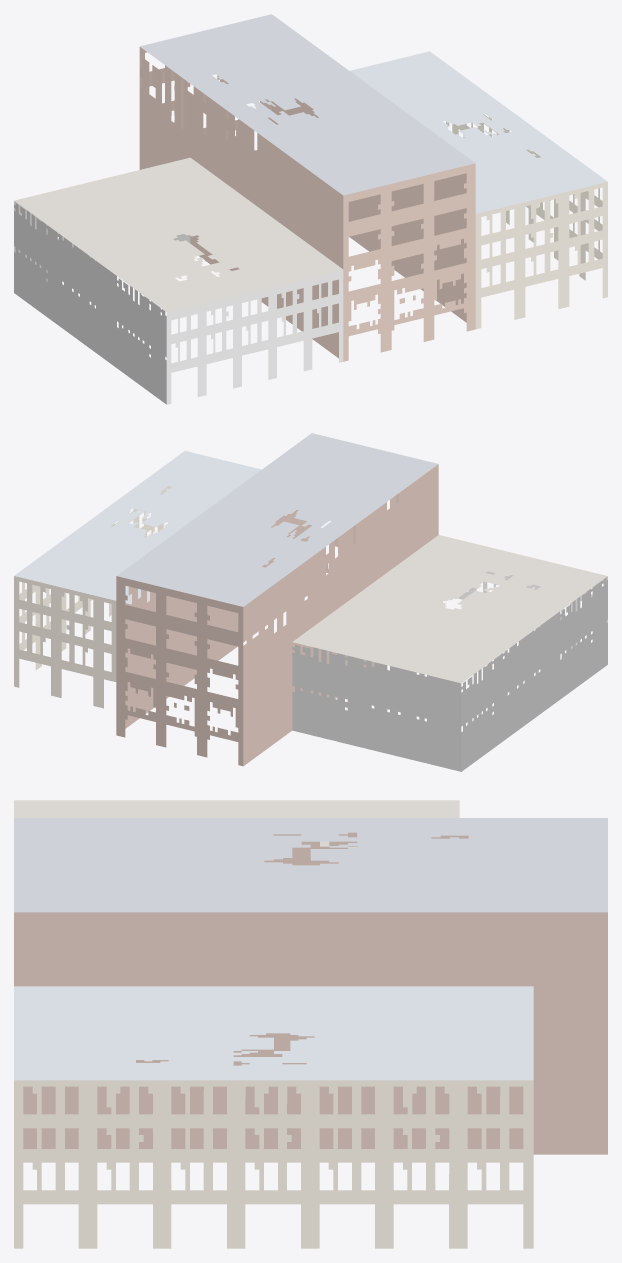
Rendered from uvmd-0149.glb.
3 renders of one model, top to bottom at view 1: azimuth 30°, elevation 25°; view 2: azimuth 150°, elevation 25°; view 3: azimuth 270°, elevation 25°, orthographic. The views are drawn at different scales.
Visible parts, largest first — view 1: uvmd-0149; view 2: uvmd-0149; view 3: uvmd-0149.
Part boxes in pixels (bbox=[...]): uvmd-0149: bbox=[14, 14, 607, 404]; uvmd-0149: bbox=[14, 433, 607, 771]; uvmd-0149: bbox=[14, 800, 607, 1248].
Bounding box in the file's own units: 500 × 180 × 400.
4 materials, 4 textured.
